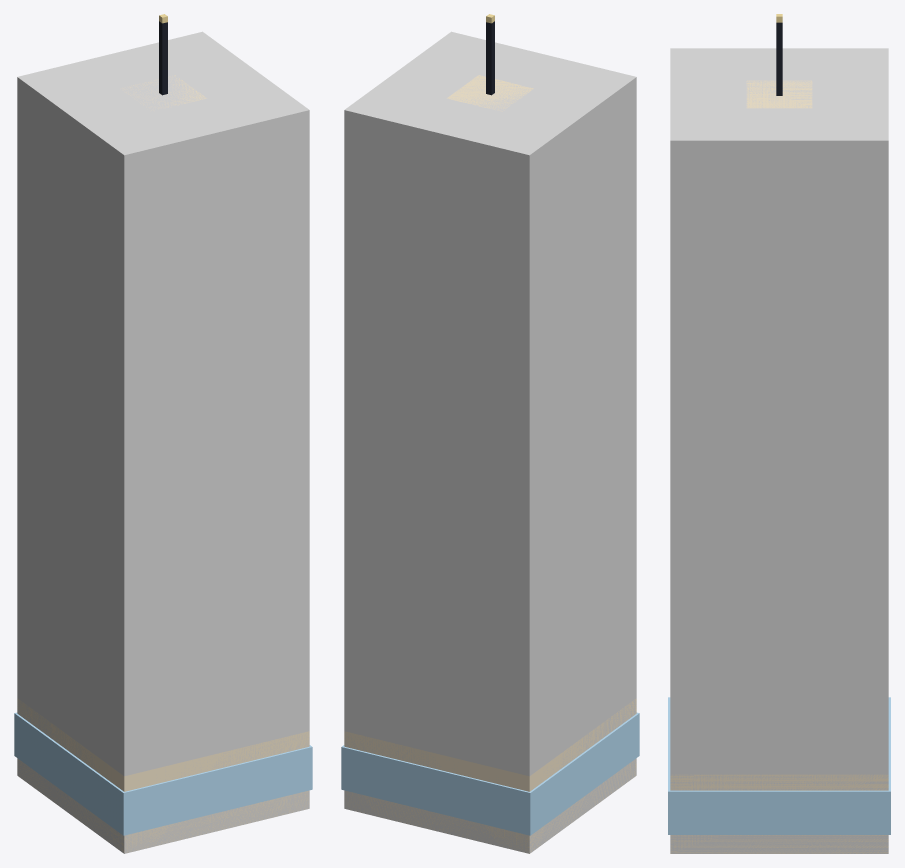
File: skyline-tower.glb
The picture shows the model from 3 angles, left to right: view 1: azimuth 30°, elevation 25°; view 2: azimuth 150°, elevation 25°; view 3: azimuth 270°, elevation 25°; orthographic projection. The views are drawn at different scales.
Parts seen in each view (by area): view 1: COL_body, skyline-tower; view 2: COL_body, skyline-tower; view 3: COL_body, skyline-tower.
Part boxes in pixels (left/top/right/bottom): COL_body: left=17, top=31, right=309, bottom=853; skyline-tower: left=14, top=14, right=312, bottom=852; COL_body: left=344, top=31, right=636, bottom=853; skyline-tower: left=341, top=14, right=639, bottom=853; COL_body: left=670, top=48, right=888, bottom=853; skyline-tower: left=668, top=14, right=890, bottom=853.
Size of the model in its own units: 10.2 by 40 by 10.2.
